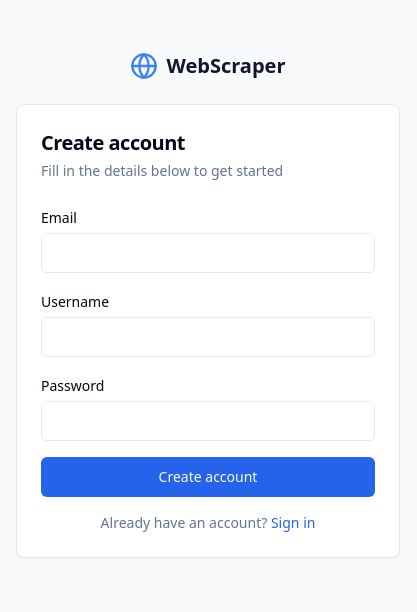
Scenario: Register page › displays an error when registration fails
The width and height of the screenshot is (417, 612).
Type "dup@example.com" into the field labelled "Email" at (208, 253), box [41,233,375,273]
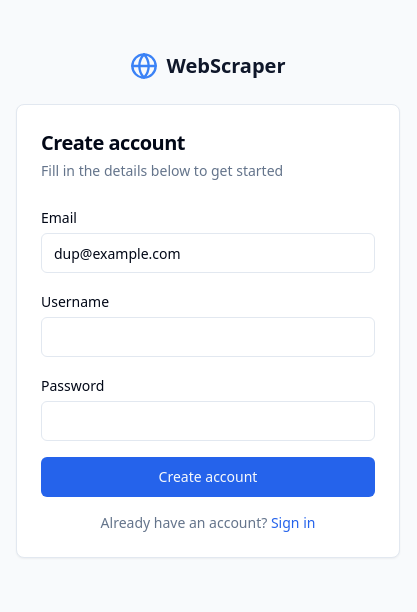
Type "dupuser" into the field labelled "Username" at (208, 337), box [41,317,375,357]
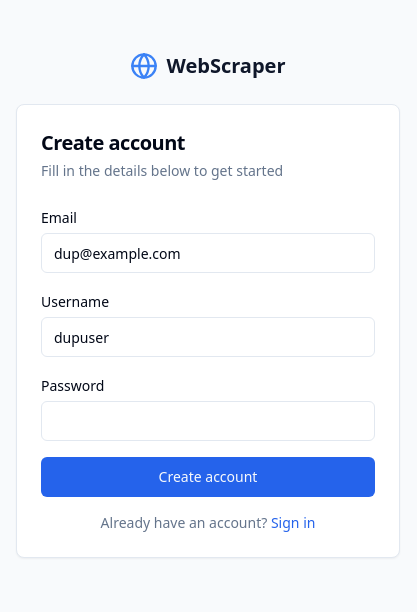
Type "password123" into the password field labelled "Password" at (208, 421), box [41,401,375,441]
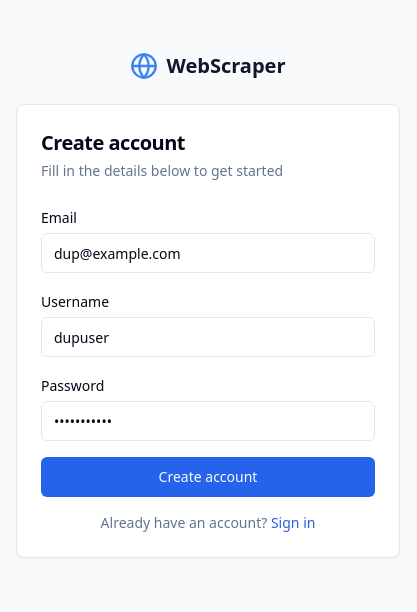
Click the button "Create account" at (208, 477), box [41,457,375,497]
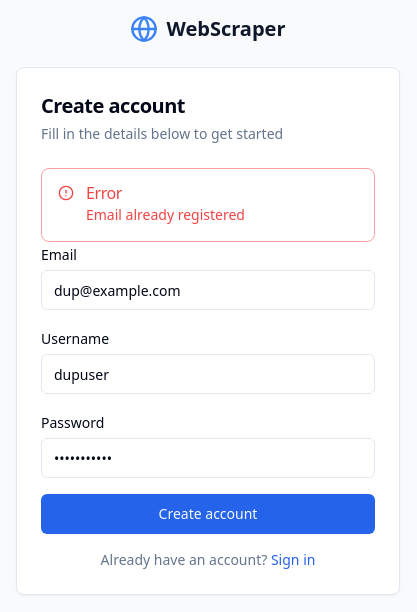
Result: the text "Email already registered" is shown at [86,205,245,224]
